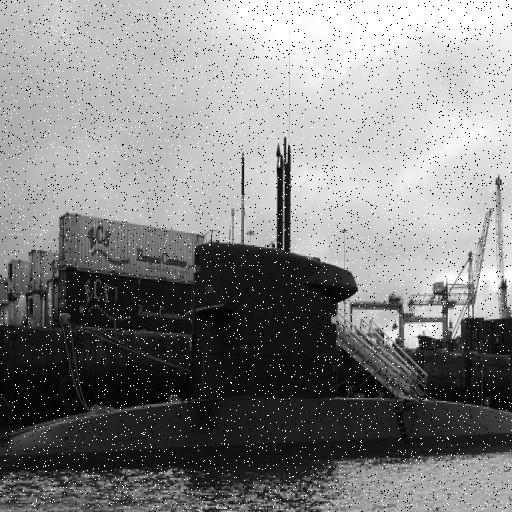submarine: (1, 249, 512, 482)
